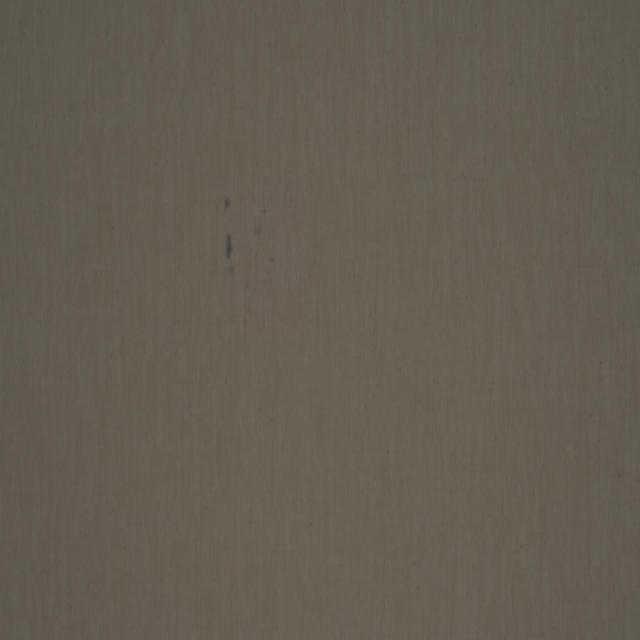dirty: (223, 232, 237, 277), (224, 195, 230, 212)
